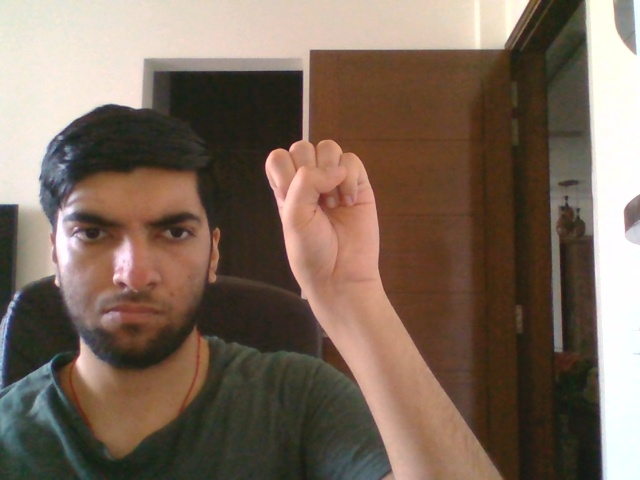LetterE: (264, 139, 381, 285)
